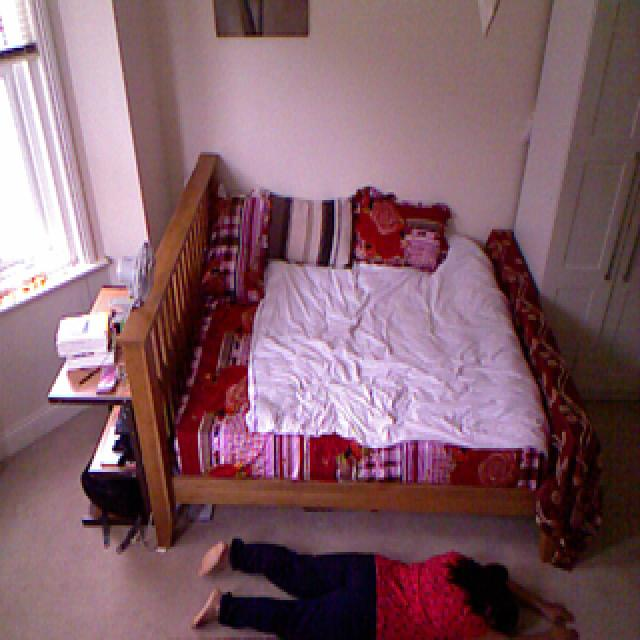lying: (190, 530, 579, 640)
